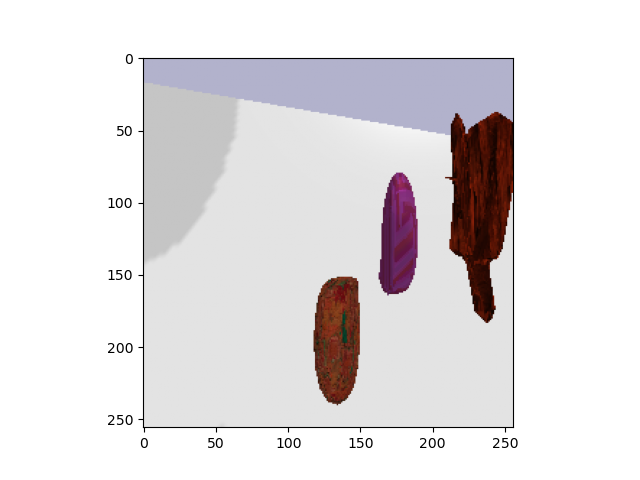v249b387_105: (377, 167, 424, 303)
v249b387_106: (311, 269, 364, 408)
v249b387_107: (442, 105, 514, 333)
